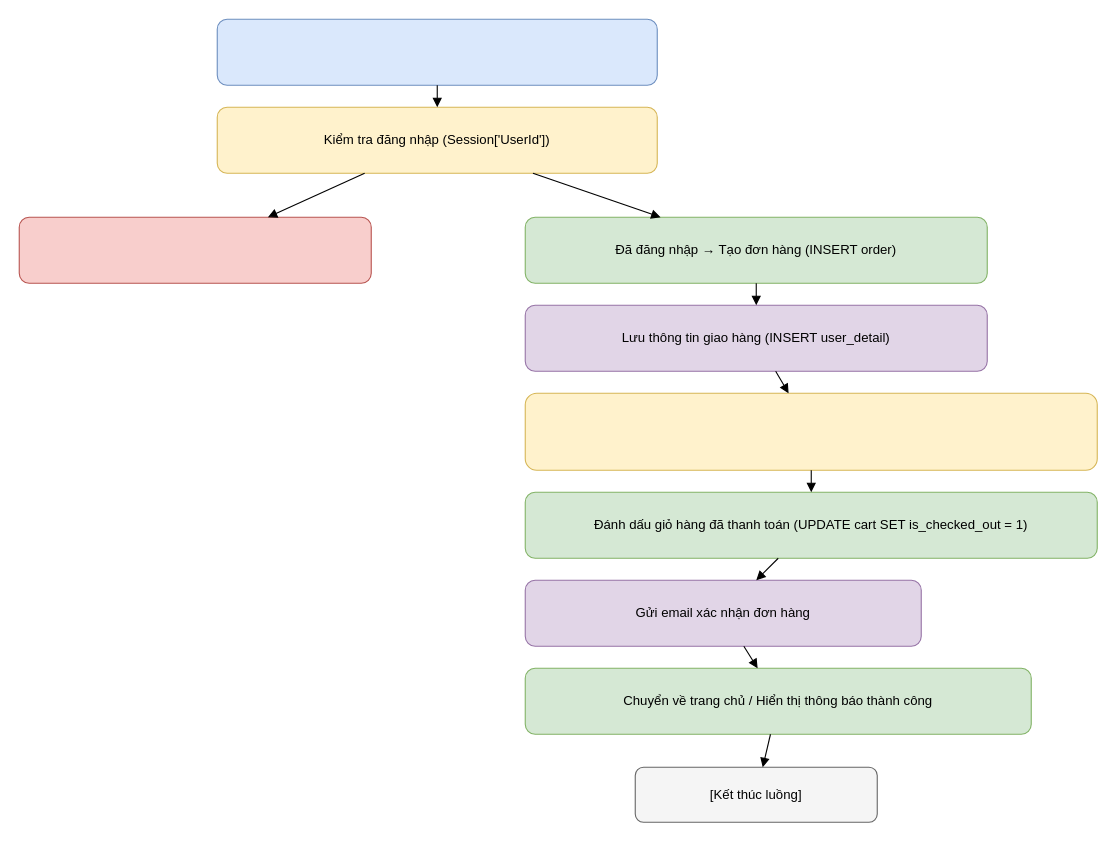
Image size: 1117x842. Some labels were removed from this diagram. Here are the shapes that lost their labels. From the top down, the centre of each, then its label:
At point 436,51: "[Người dùng nhấn 'Thanh toán']".
At point 194,249: "Chưa đăng nhập → Chuyển Login.aspx".
At point 810,431: "Thêm từng sản phẩm vào order_item + trừ tồn kho (UPDATE product)".
